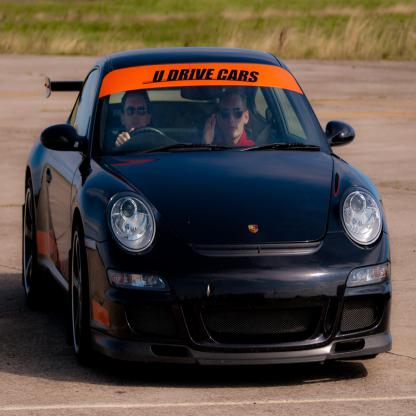Car: (23, 47, 394, 366)
